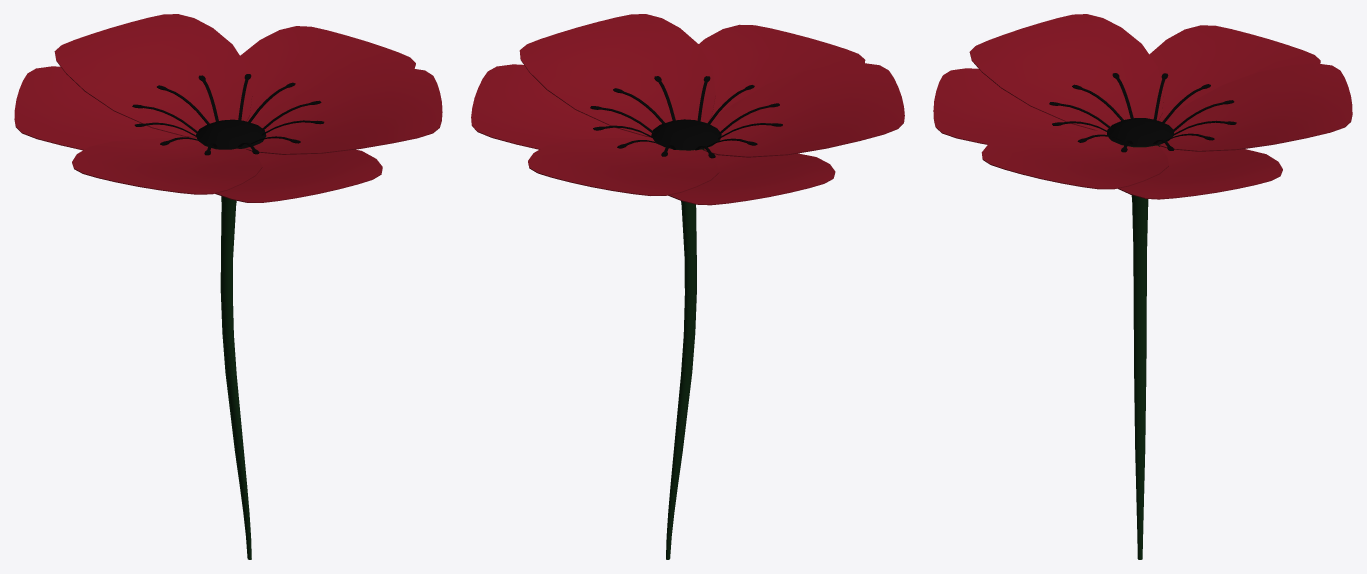
The model's file is amapola.fbx.
3 renders of one model, left to right at view 1: azimuth 30°, elevation 25°; view 2: azimuth 150°, elevation 25°; view 3: azimuth 270°, elevation 25°, orthographic. The views are drawn at different scales.
Visible parts, largest first — view 1: Amapola; view 2: Amapola; view 3: Amapola.
Boxes of the visible parts, left/top/right/bottom form: Amapola: left=14, top=14, right=442, bottom=559; Amapola: left=471, top=14, right=904, bottom=559; Amapola: left=933, top=14, right=1352, bottom=559.
Size of the model in its own units: 450 by 531 by 449.
